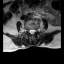CCS_normal: (31, 27, 33, 36)
LFS_normal: (35, 26, 37, 34)
LLS_normal: (33, 27, 35, 35)
RFS_normal: (27, 27, 29, 34)
RLS_normal: (29, 27, 31, 35)
